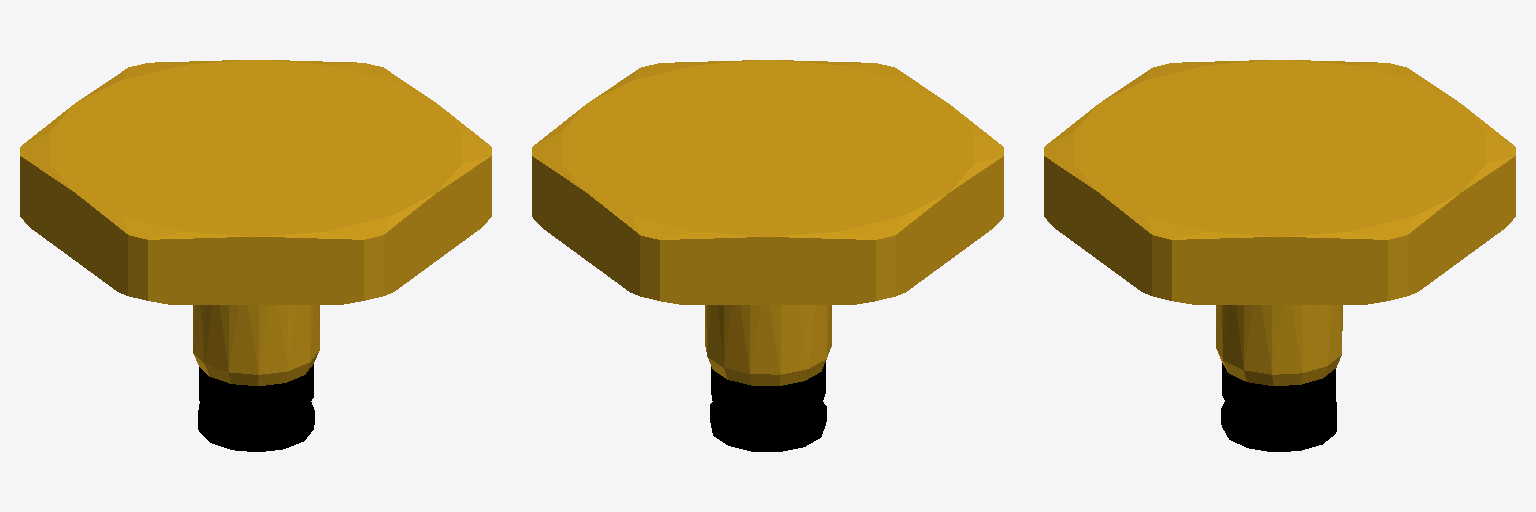
robot.urdf — model.urdf:
<?xml version="1.0" ?>
        <robot name="model.urdf">
            
        <material name="yellow">
            <color rgba="0.85 0.65 0.125 1"/>
        </material>
            
            
        <material name="black">
            <color rgba="0 0 0 1"/>
        </material>
            
            <link name="base_screw_link"/>
            
            <link concave="no" name="screw_top_link">
            <inertial>
                <density value="1000"/>
            </inertial>
            <visual>
                <origin xyz="0 0 0" rpy="0.0 0.0 0.5235987020751401"/>
                <geometry>
                <mesh filename="assets/meshes/stutzmontage/visual/Screw_top.obj" scale="0.07106022933319493 0.07106022933319493 0.05443311985069603" />
                </geometry>
                <material name="yellow"/>
            </visual>
            <collision>
                <origin xyz="0 0 0" rpy="0.0 0.0 0.5235987020751401"/>
                <geometry>
                <mesh filename="assets/meshes/stutzmontage/visual/Screw_top.obj" scale="0.07106022933319493 0.07106022933319493 0.05443311985069603"/>
                </geometry>
            </collision>
            </link>
        
            
            <link concave="no" name="screw_bot_link">
            <inertial>
                <density value="1000"/>
            </inertial>
            <visual>
                <origin xyz="0 0 0" rpy="0.0 0.0 0.0"/>
                <geometry>
                <mesh filename="assets/meshes/stutzmontage/visual/Screw_bottom.obj" scale="0.023643282944720602 0.023643282944720602 0.062463965403822076" />
                </geometry>
                <material name="yellow"/>
            </visual>
            <collision>
                <origin xyz="0 0 0" rpy="0.0 0.0 0.0"/>
                <geometry>
                <mesh filename="assets/meshes/stutzmontage/visual/Screw_bottom.obj" scale="0.023643282944720602 0.023643282944720602 0.062463965403822076"/>
                </geometry>
            </collision>
            </link>
        
            
            <link concave="no" name="screw_plastic_link">
            <inertial>
                <density value="1000"/>
            </inertial>
            <visual>
                <origin xyz="0 0 0" rpy="0.0 0.0 0.0"/>
                <geometry>
                <mesh filename="assets/meshes/stutzmontage/visual/Screw_plastic.obj" scale="0.023643282944720602 0.023643282944720602 0.062463965403822076" />
                </geometry>
                <material name="black"/>
            </visual>
            <collision>
                <origin xyz="0 0 0" rpy="0.0 0.0 0.0"/>
                <geometry>
                <mesh filename="assets/meshes/stutzmontage/visual/Screw_plastic.obj" scale="0.023643282944720602 0.023643282944720602 0.062463965403822076"/>
                </geometry>
            </collision>
            </link>
        
            
            <link concave="no" name="screw_ring_link">
            <inertial>
                <density value="1000"/>
            </inertial>
            <visual>
                <origin xyz="0 0 0" rpy="0.0 0.0 0.0"/>
                <geometry>
                <mesh filename="assets/meshes/stutzmontage/visual/Screw_oring.obj" scale="0.023643282944720602 0.023643282944720602 0.062463965403822076" />
                </geometry>
                <material name="black"/>
            </visual>
            <collision>
                <origin xyz="0 0 0" rpy="0.0 0.0 0.0"/>
                <geometry>
                <mesh filename="assets/meshes/stutzmontage/visual/Screw_oring.obj" scale="0.023643282944720602 0.023643282944720602 0.062463965403822076"/>
                </geometry>
            </collision>
            </link>
        
            
            <joint name="top_joint" type="fixed">
                <parent link="base_screw_link"/>
                <child link="screw_top_link"/>
                <origin xyz="0 0 0" rpy="0.0 0.0 0.0"/>
            </joint>
        
            
            <joint name="bot_joint" type="fixed">
                <parent link="base_screw_link"/>
                <child link="screw_bot_link"/>
                <origin xyz="0 0 0" rpy="0.0 0.0 0.0"/>
            </joint>
        
            
            <joint name="plastic_joint" type="fixed">
                <parent link="base_screw_link"/>
                <child link="screw_plastic_link"/>
                <origin xyz="0 0 0" rpy="0.0 0.0 0.0"/>
            </joint>
        
            
            <joint name="ring_joint" type="fixed">
                <parent link="base_screw_link"/>
                <child link="screw_ring_link"/>
                <origin xyz="0 0 0" rpy="0.0 0.0 0.0"/>
            </joint>
        
        </robot>
        

--- Facts derived from the render (not from the file) ---
Views: 3 orthographic renders of the robot side by side, from view 1: azimuth 30°, elevation 25°; view 2: azimuth 150°, elevation 25°; view 3: azimuth 270°, elevation 25°.
Model model.urdf with 5 links and 4 joints (4 fixed), rooted at base_screw_link, posed all joints at 0.
Visible links, largest first — view 1: screw_top_link, screw_bot_link, screw_plastic_link; view 2: screw_top_link, screw_bot_link, screw_plastic_link; view 3: screw_top_link, screw_bot_link, screw_plastic_link.
Boxes of the visible links, x1,y1,x2,y2 form: screw_top_link: (20, 60, 491, 304); screw_bot_link: (193, 305, 319, 385); screw_plastic_link: (198, 364, 314, 451); screw_top_link: (532, 60, 1003, 304); screw_bot_link: (705, 305, 831, 385); screw_plastic_link: (710, 362, 826, 451); screw_top_link: (1044, 60, 1515, 304); screw_bot_link: (1216, 305, 1342, 385); screw_plastic_link: (1221, 363, 1336, 451).
Bounding box of the posed robot: 0.0671 × 0.0755 × 0.0496 m (x, y, z).
4 mesh visuals loaded from 4 distinct referenced files (4 OBJ).